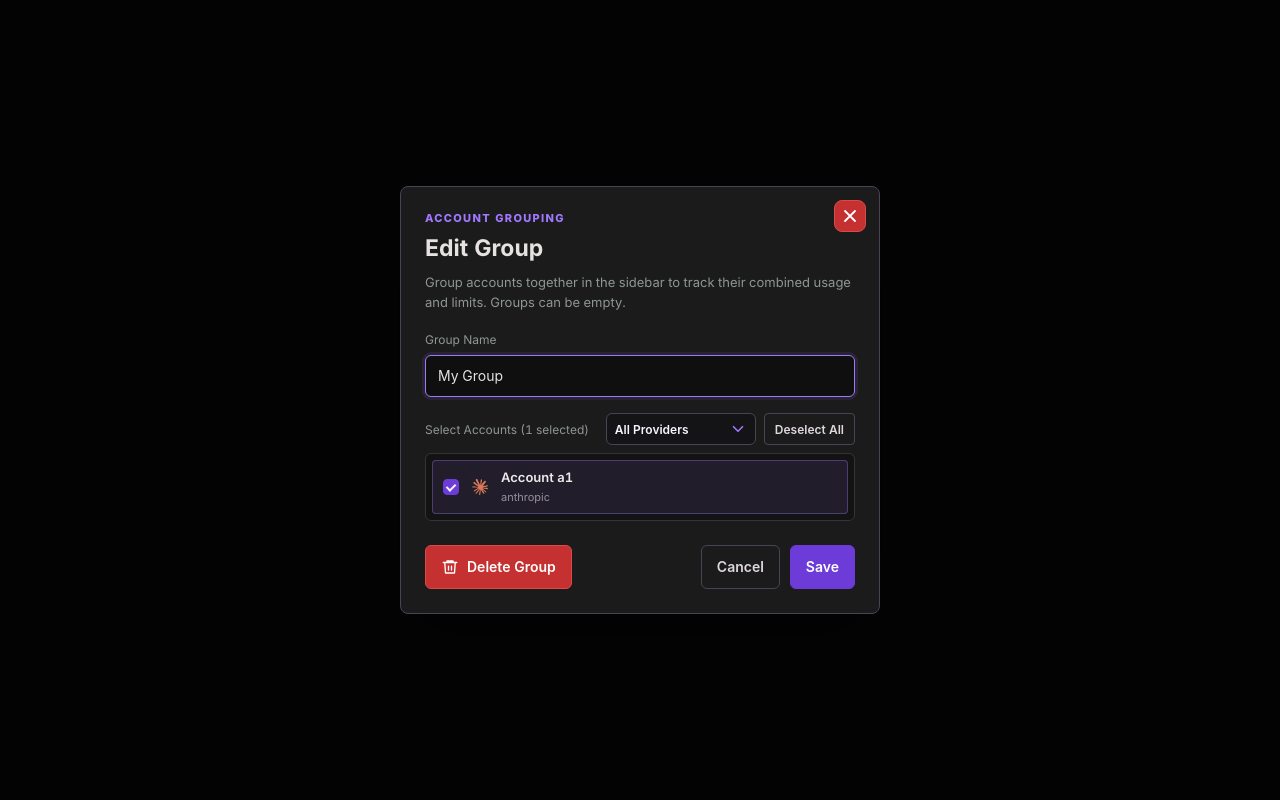
Test: BucketModal unsaved changes and deletion clarity › says exactly what deleting a group removes
Click the button "Delete Group": click(498, 568) [425,546,572,590]
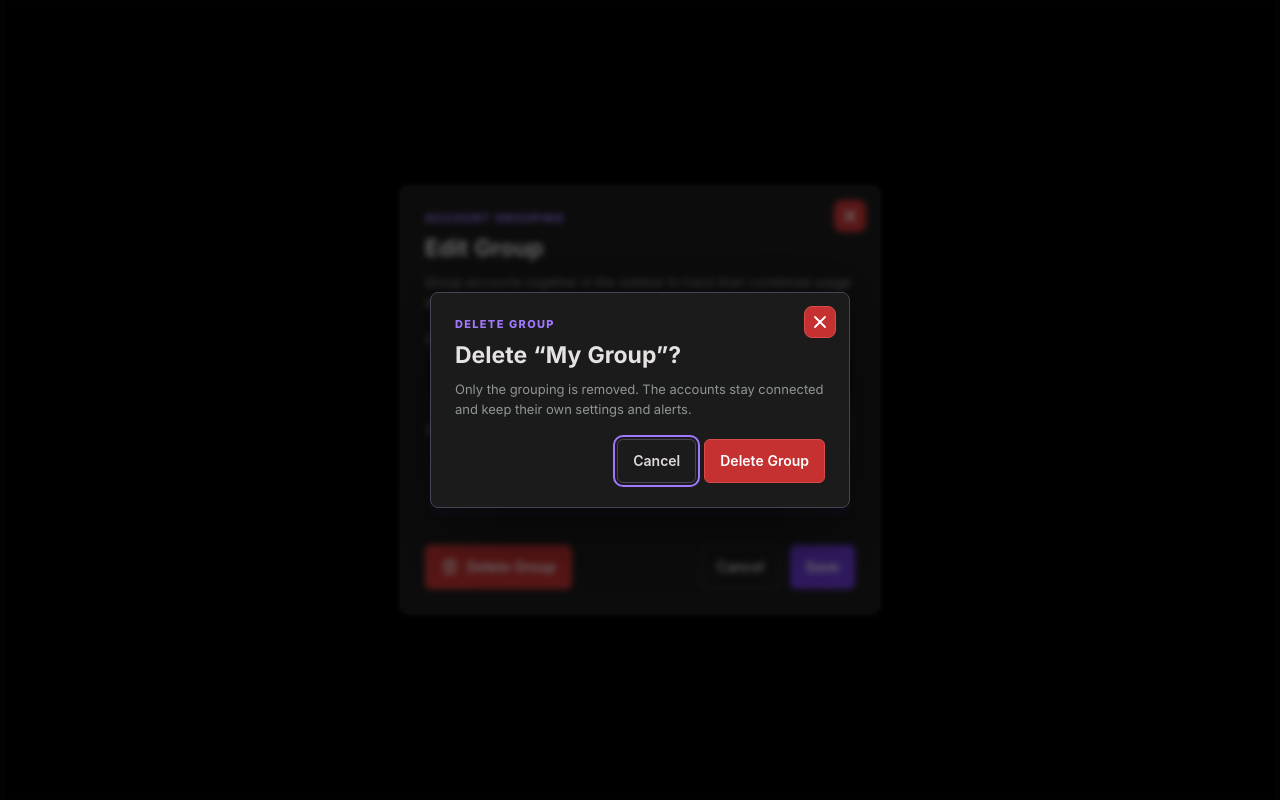
Now the element with class "modal-backdrop" shows "Delete “My Group”?"
Now the element with class "modal-backdrop" shows "Only the grouping is removed", box [455,382,824,418]
Now the element with class "modal-backdrop" shows "accounts stay connected", box [455,382,824,418]
